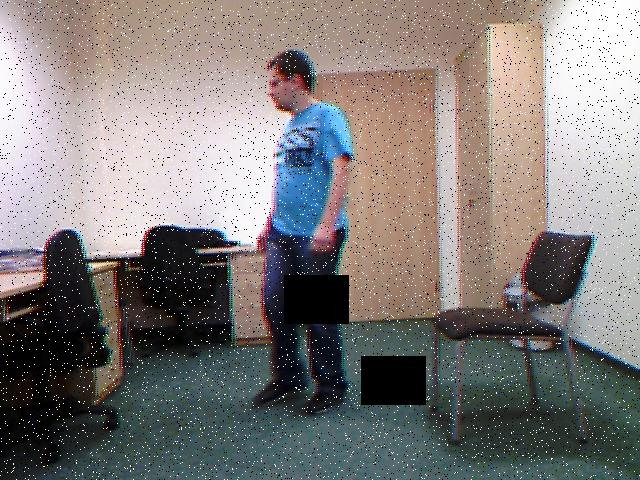walking: (240, 38, 367, 438)
